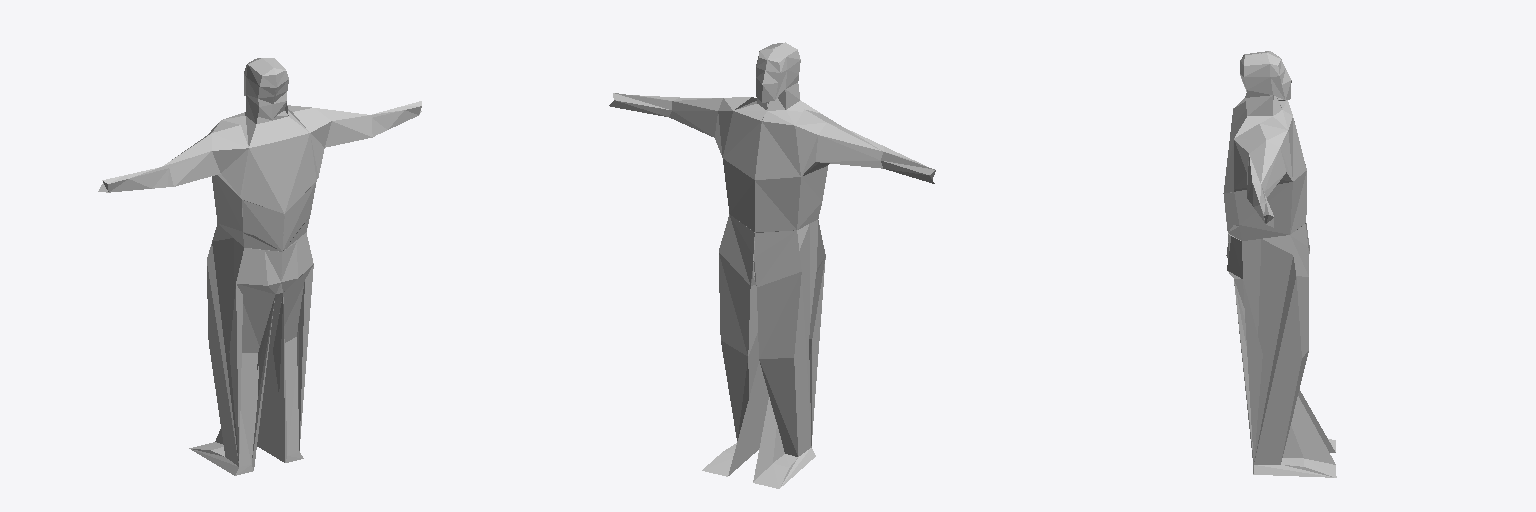
Rendered from player_t4.obj.
3 renders of one model, left to right at view 1: azimuth 30°, elevation 25°; view 2: azimuth 150°, elevation 25°; view 3: azimuth 270°, elevation 25°, orthographic.
Parts seen in each view (by area): view 1: Cube.001; view 2: Cube.001; view 3: Cube.001.
Boxes of the visible parts, box(x1,y1,x2,y2) form: Cube.001: box(98, 58, 421, 475); Cube.001: box(609, 42, 935, 488); Cube.001: box(1223, 51, 1336, 477).
Bounding box in the file's own units: 2.45 × 2.92 × 0.7368.